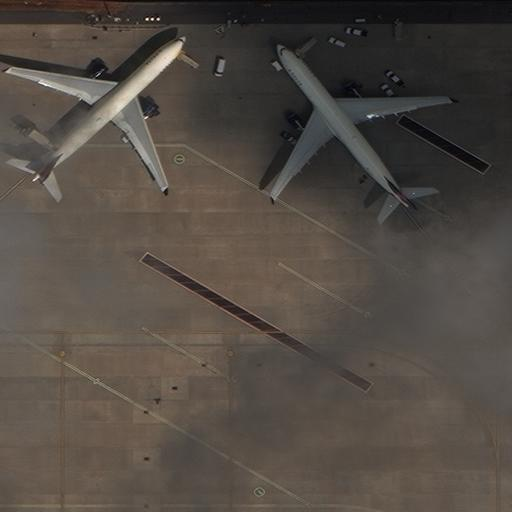Large Civil Transport: (268, 40, 445, 213), (11, 34, 188, 186)
